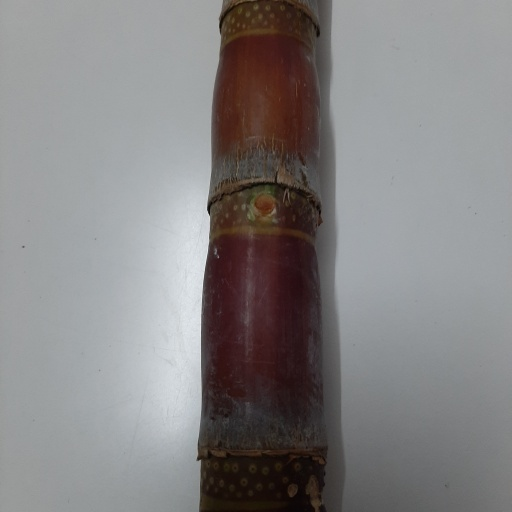Damage_Bud: (253, 190, 280, 223)
